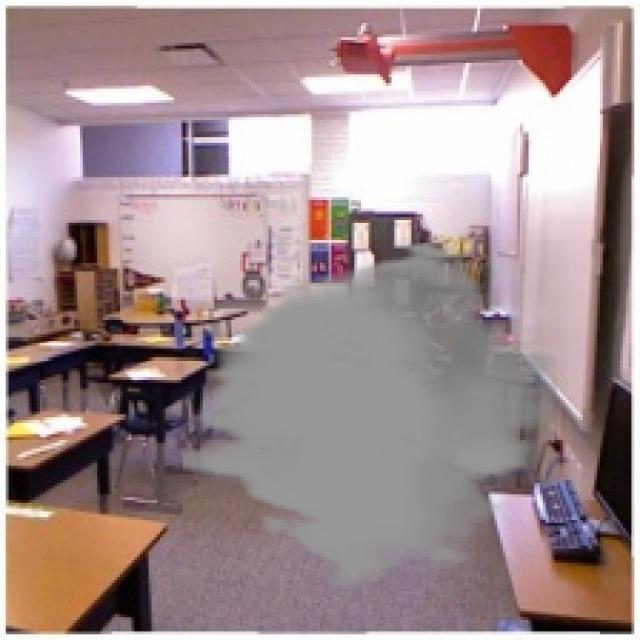Smoke: (182, 240, 558, 589)
